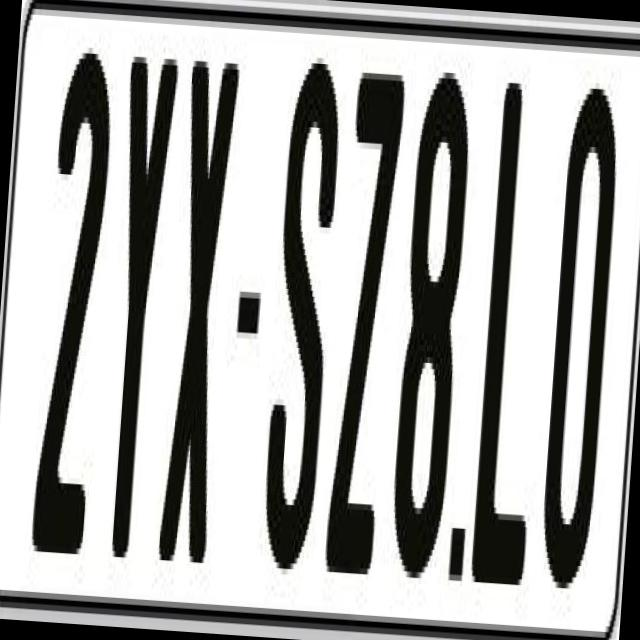0: (536, 87, 624, 612)
2: (28, 34, 116, 536)
8: (386, 70, 478, 592)
L: (468, 70, 562, 603)
S: (258, 56, 347, 576)
X: (155, 59, 246, 580)
Y: (91, 49, 178, 582)
Z: (322, 60, 414, 575)
